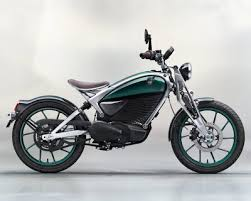motorcycle: (5, 30, 245, 173)
